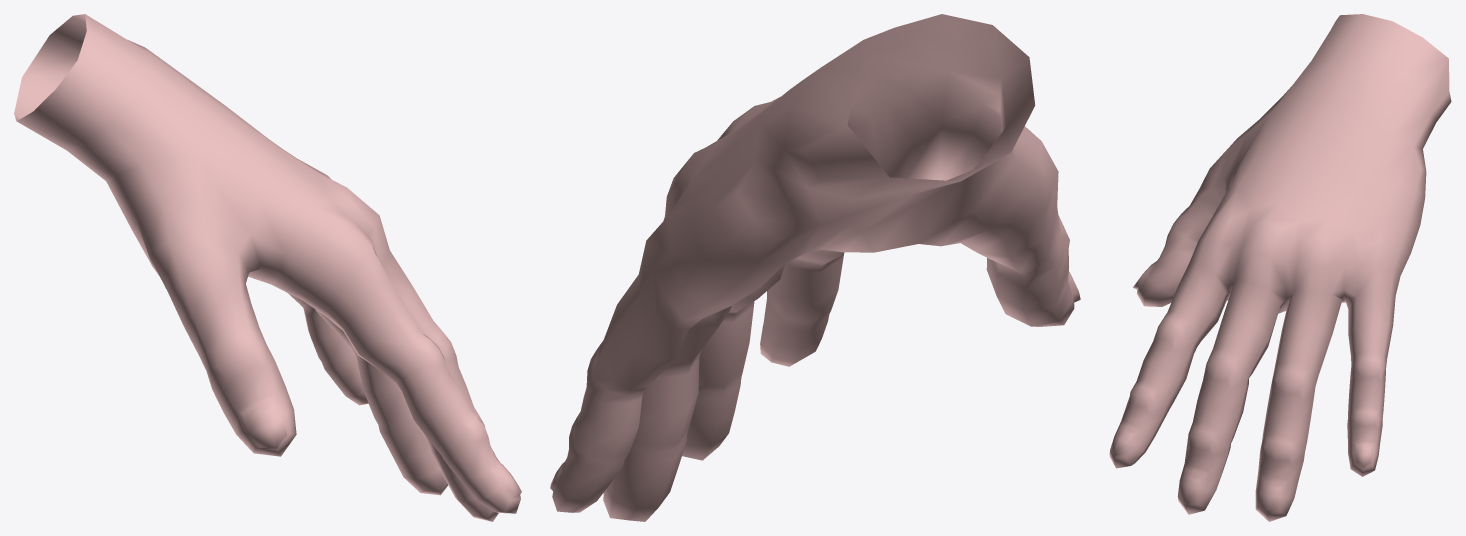
The model's file is Superhero_Male_A_Hand01.fbx.
3 views of the same model, side by side, from view 1: azimuth 30°, elevation 25°; view 2: azimuth 150°, elevation 25°; view 3: azimuth 270°, elevation 25° (orthographic). The views are drawn at different scales.
Parts seen in each view (by area): view 1: Superhero_Male_A_Hand01; view 2: Superhero_Male_A_Hand01; view 3: Superhero_Male_A_Hand01.
Part boxes in pixels (x1,y1,x2,y2): Superhero_Male_A_Hand01: (14,14,521,521); Superhero_Male_A_Hand01: (550,14,1080,521); Superhero_Male_A_Hand01: (1109,14,1451,521).
Bounding box in the file's own units: 0.8663 × 1.1 × 0.8685.
